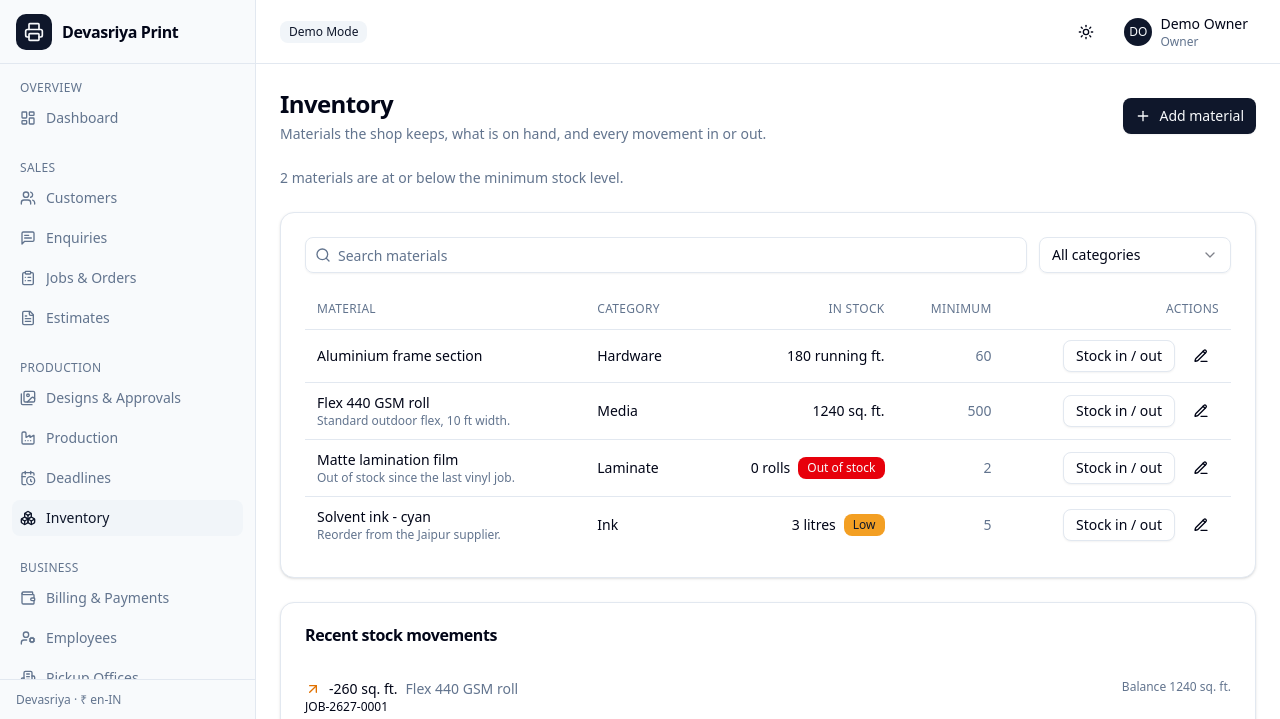
Test: demo inventory › refuses to take stock below zero, and changes nothing
The image size is (1280, 719).
Click the button "Stock in / out" in the row of "Solvent ink - cyan". click: (1119, 524)
box: [1063,508,1175,540]
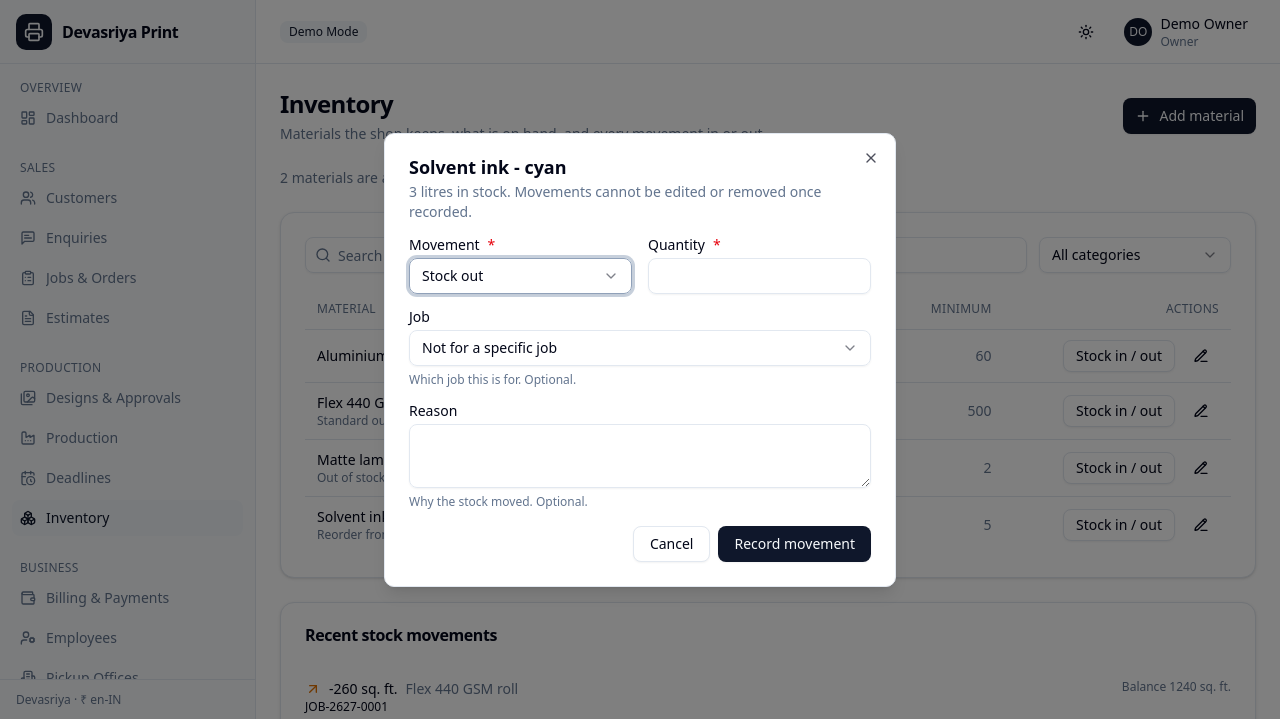
Type "99" into the field labelled "Quantity *". click: (760, 276)
box: [648,258,871,294]
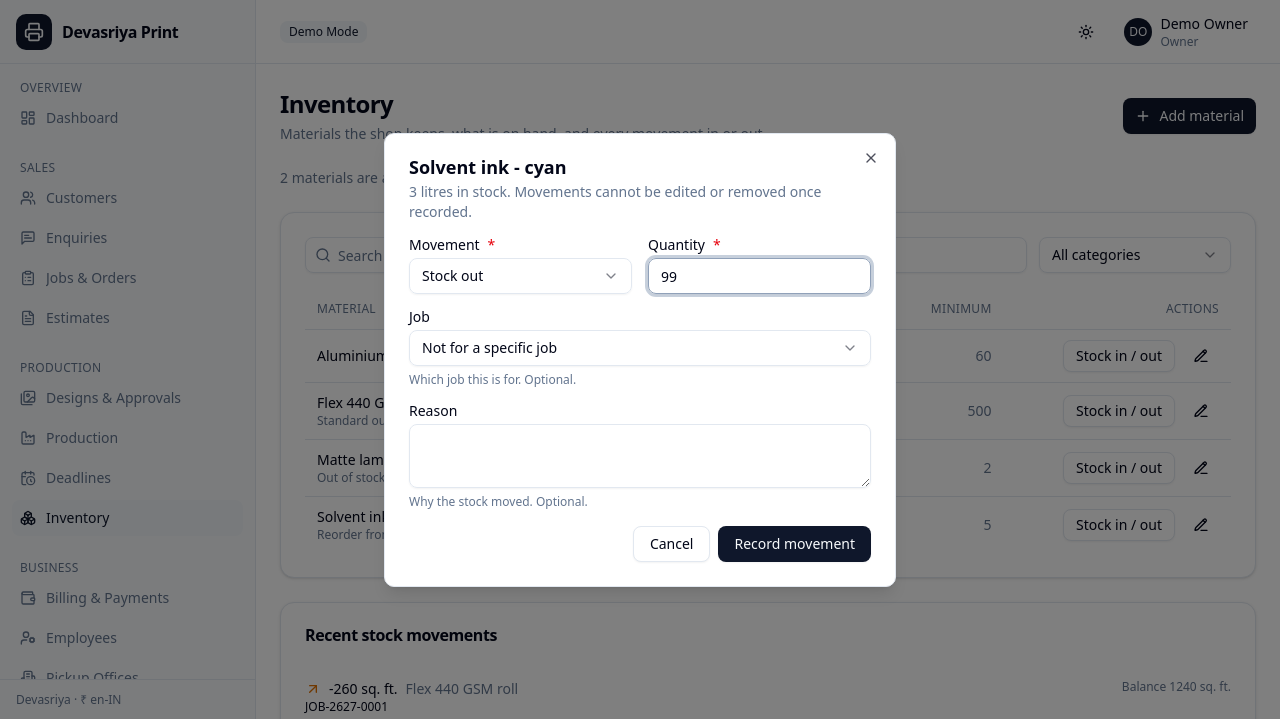
Click the button "Record movement". click: (795, 544)
box: [718,526,871,562]
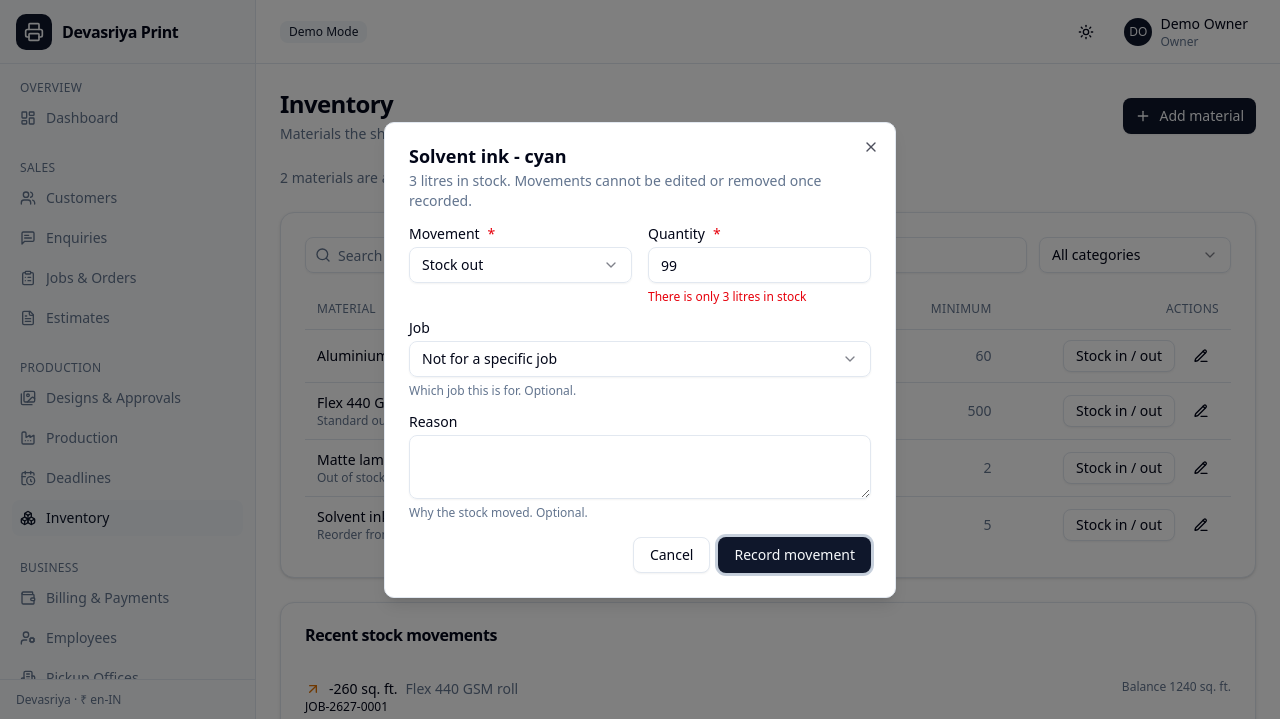
Check: the text "There is only 3 litres in stock" is shown, box [648,288,806,305]
